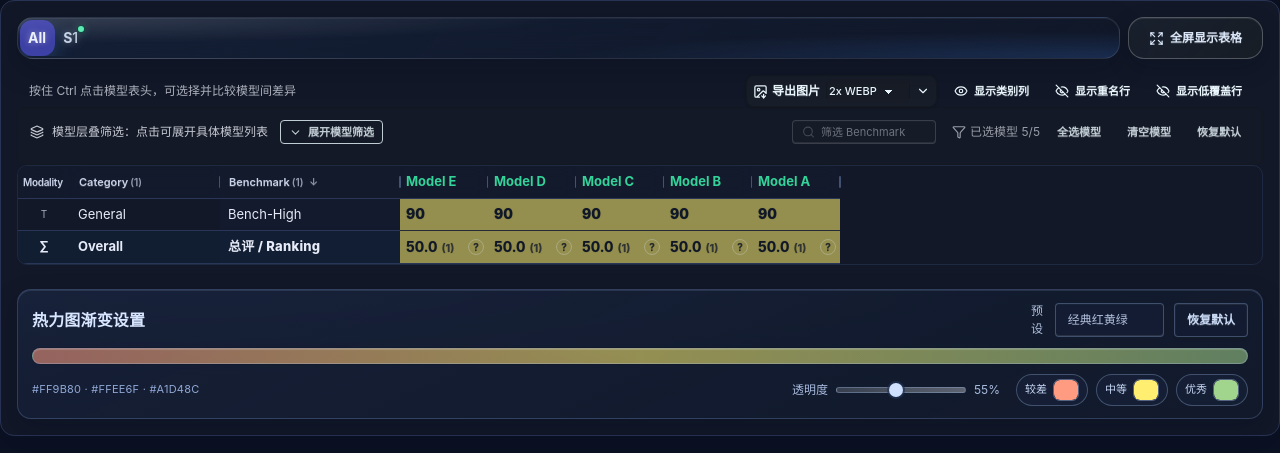
BenchmarkMatrix 搜索筛选与低覆盖率状态恢复 › 输入搜索关键字会过滤行，并在搜索时自动启用显示低覆盖率行，搜索清除后恢复原始隐藏状态
Expected: the text "Bench-Low" is not shown
Expected: the text "Bench-High" is shown, x1=228 y1=206 x2=301 y2=222
// 输入 Bench-Low
Step 1. Type "Bench-Low" into the field with placeholder "筛选 Benchmark" → (864, 132), box x1=792 y1=120 x2=936 y2=144
Wait 300 ms
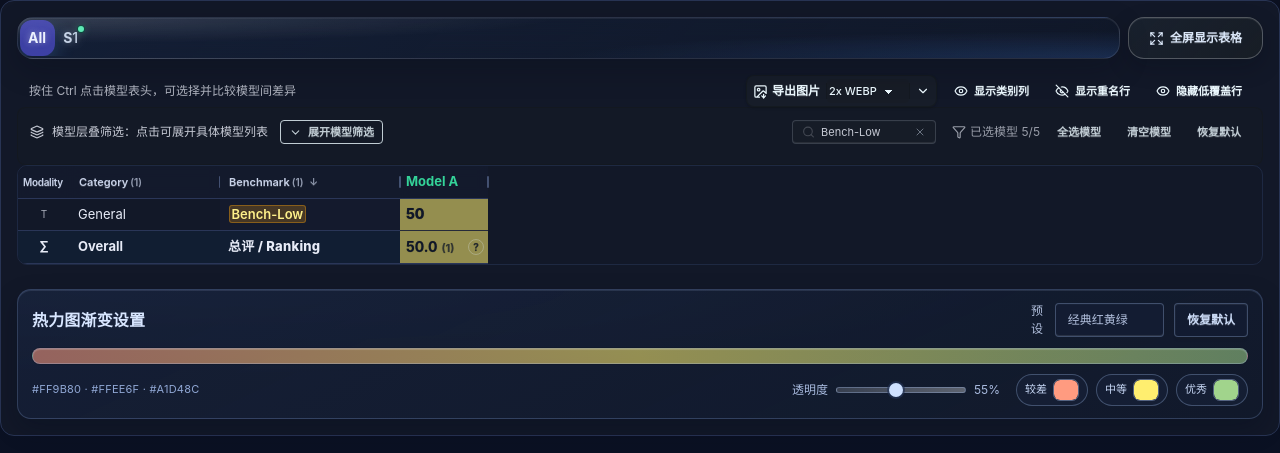
Expected: the text "Bench-Low" is shown, x1=228 y1=205 x2=306 y2=223
Expected: the text "Bench-High" is gone
Step 2. Click the button named "清除搜索" → (920, 132), box x1=910 y1=122 x2=930 y2=142
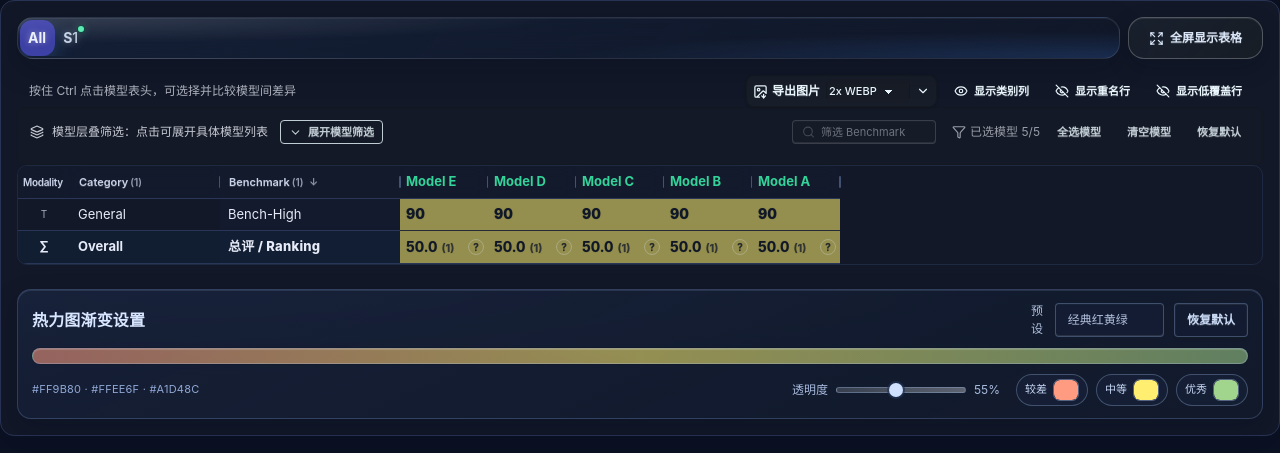
Expected: the text "Bench-Low" is gone
Expected: the text "Bench-High" is shown, x1=228 y1=206 x2=301 y2=222
